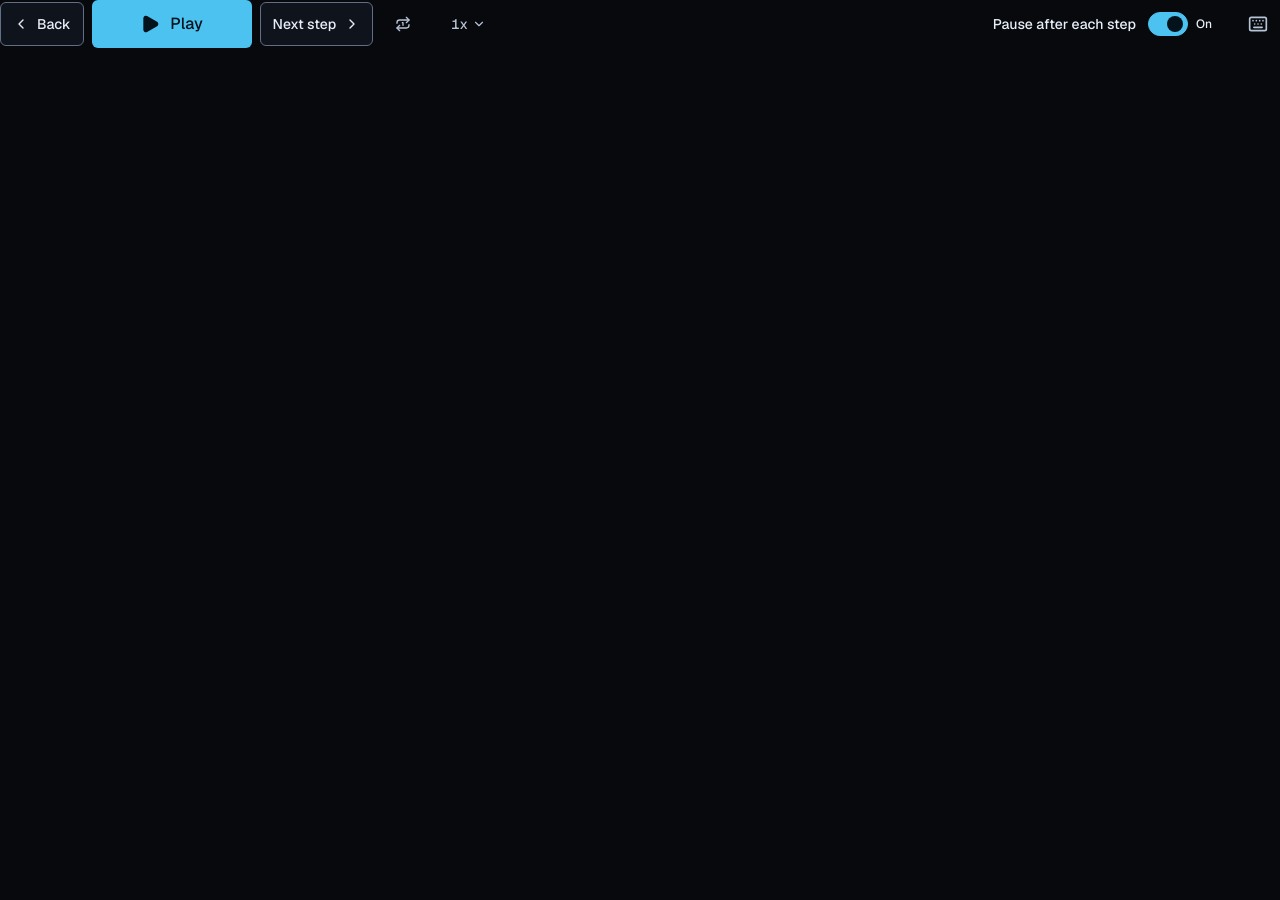
PlaybackControls › makes the whole keyboard map discoverable from a popover
This screenshot has width=1280, height=900.
Click the button named "Keyboard shortcuts" at point(1258, 24), box [1236, 2, 1279, 46]
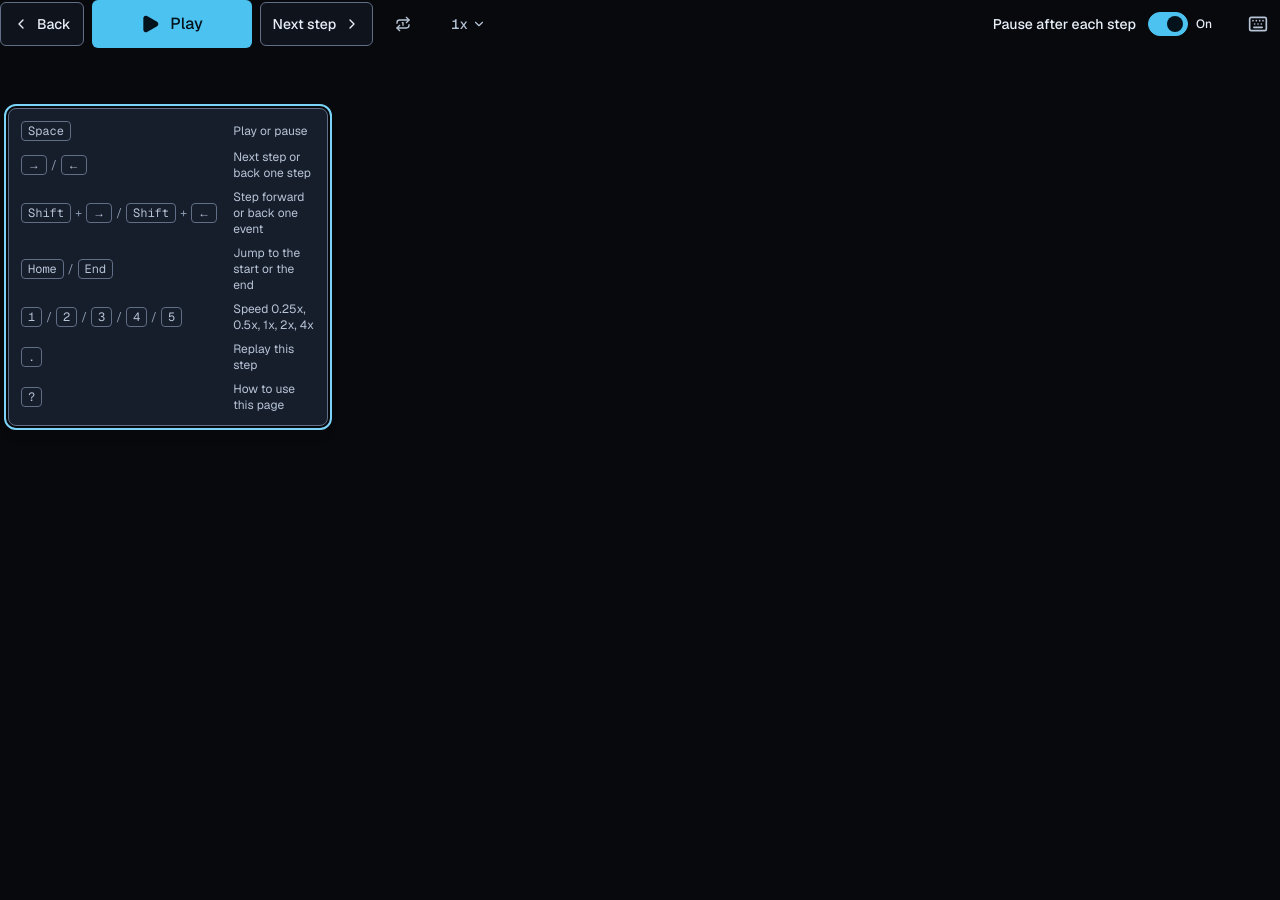
Expected: the text "Play or pause" is shown, [233, 123, 315, 139]
Expected: the text "Next step or back one step" is shown, [233, 149, 315, 181]
Expected: the text "Step forward or back one event" is shown, [233, 189, 315, 237]
